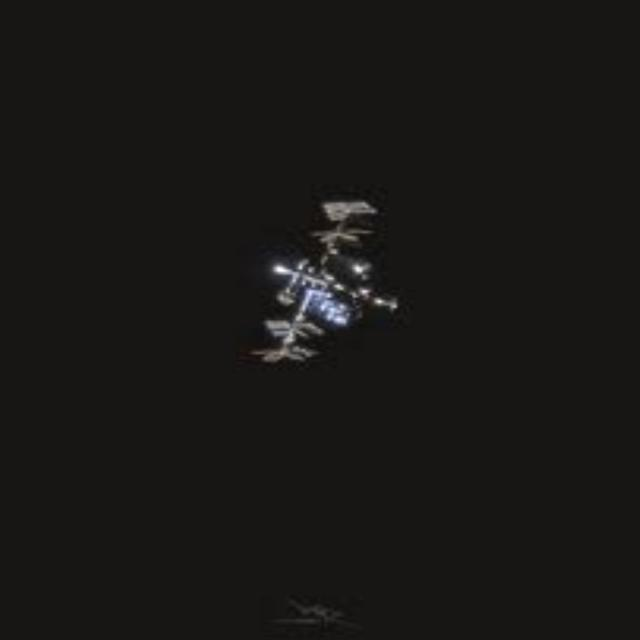medium_debris: (236, 185, 412, 412)
